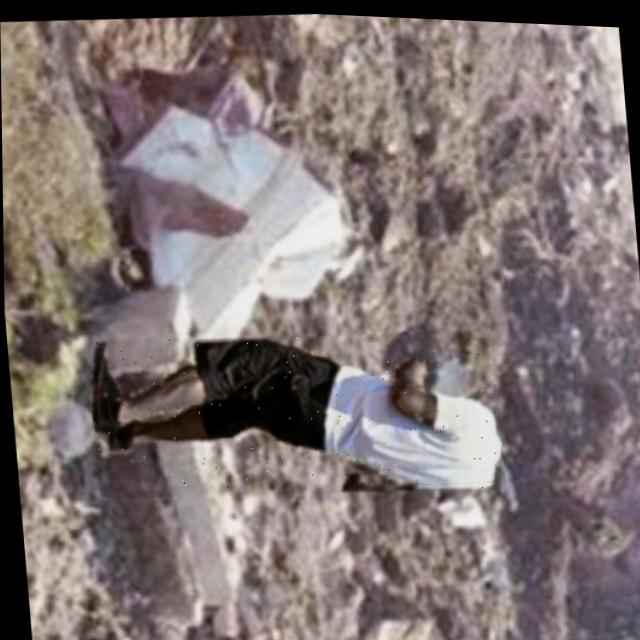Person in Rubble: (84, 311, 504, 512)
